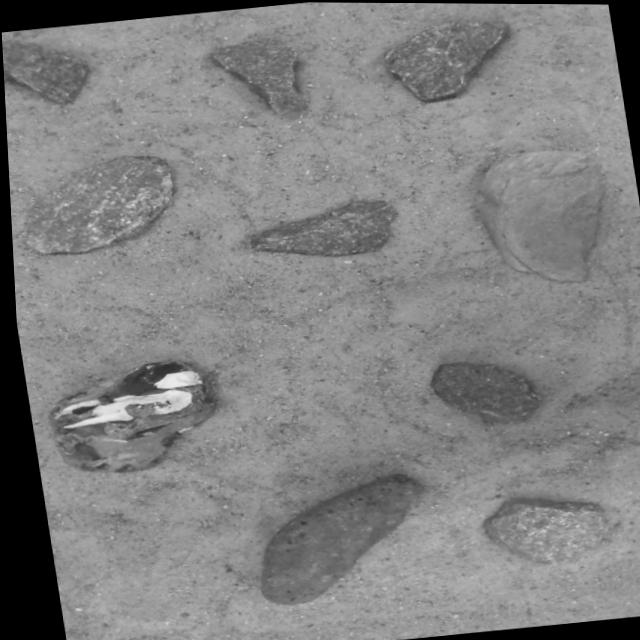rock: (253, 474, 410, 604), (44, 362, 207, 472), (474, 150, 599, 281), (22, 156, 169, 254), (384, 19, 505, 100), (478, 498, 601, 564), (246, 200, 390, 255), (210, 39, 298, 114), (426, 362, 534, 423), (2, 40, 85, 103)
